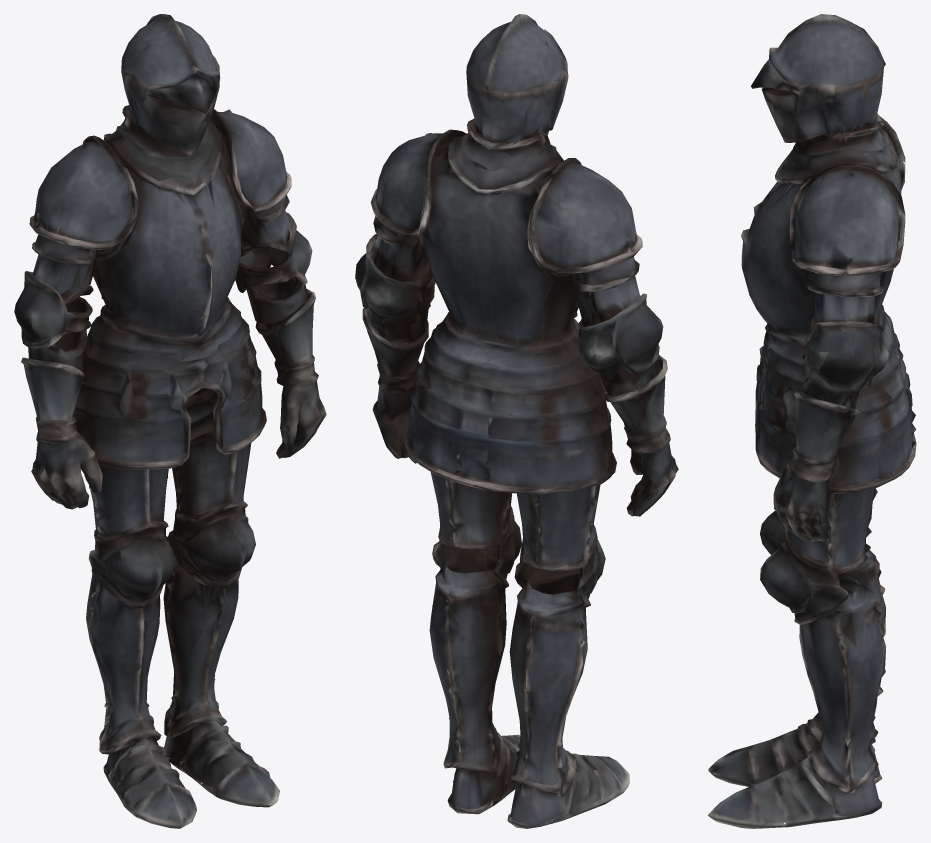
Rendered from plate-suit-20k-v7.glb.
3 renders of one model, left to right at view 1: azimuth 30°, elevation 25°; view 2: azimuth 150°, elevation 25°; view 3: azimuth 270°, elevation 25°, orthographic. The views are drawn at different scales.
Visible parts, largest first — view 1: plate-suit-20k-pre; view 2: plate-suit-20k-pre; view 3: plate-suit-20k-pre.
Part boxes in pixels (x1,y1,x2,y2): plate-suit-20k-pre: (14,14,326,828); plate-suit-20k-pre: (355,14,678,828); plate-suit-20k-pre: (708,14,916,828).
Bounding box in the file's own units: 0.3954 × 0.9971 × 0.2416.
Materials: 1 (1 with a texture image).
